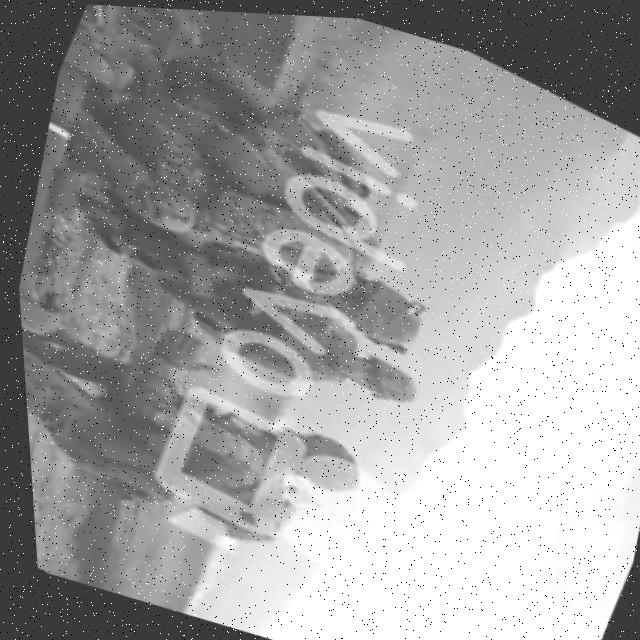rocket: (2, 42, 165, 353)
